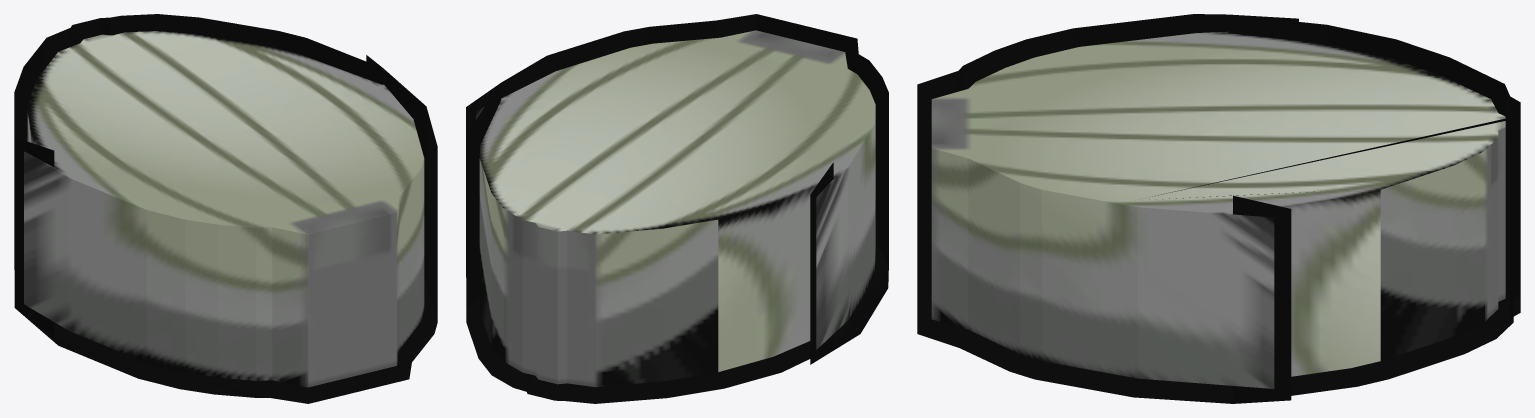
The model's file is Building_BroadshieldProjector_Things_Building_Security_BroadshieldProjector.glb.
3 views of the same model, side by side, from view 1: azimuth 30°, elevation 25°; view 2: azimuth 150°, elevation 25°; view 3: azimuth 270°, elevation 25° (orthographic). The views are drawn at different scales.
Visible parts, largest first — view 1: Body, Outline; view 2: Body, Outline; view 3: Body, Outline.
Part boxes in pixels (<box>): Body: <box>24,31,424,387</box>; Outline: <box>14,14,437,403</box>; Body: <box>476,30,875,387</box>; Outline: <box>466,14,888,403</box>; Body: <box>931,31,1505,388</box>; Outline: <box>917,14,1520,403</box>.
Size of the model in its own units: 0.862 by 0.436 by 1.14.
2 materials, 1 textured.
